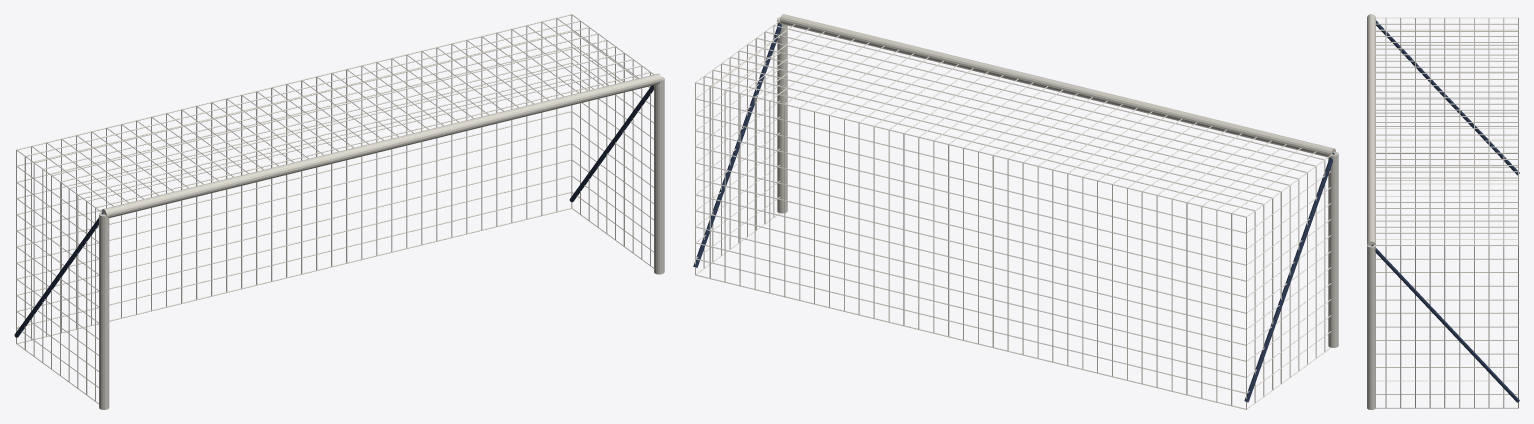
The model's file is goal.glb.
3 views of the same model, side by side, from view 1: azimuth 30°, elevation 25°; view 2: azimuth 150°, elevation 25°; view 3: azimuth 270°, elevation 25° (orthographic). The views are drawn at different scales.
Visible parts, largest first — view 1: Post, BackSupport; view 2: Post, BackSupport; view 3: Post, BackSupport.
Boxes of the visible parts, x1,y1,x2,y2 form: Post: (16, 14, 664, 409); BackSupport: (14, 85, 653, 337); Post: (695, 14, 1338, 409); BackSupport: (693, 23, 1334, 402); Post: (1367, 14, 1518, 409); BackSupport: (1371, 20, 1519, 402).
Size of the model in its own units: 7.44 by 2.51 by 2.08.
